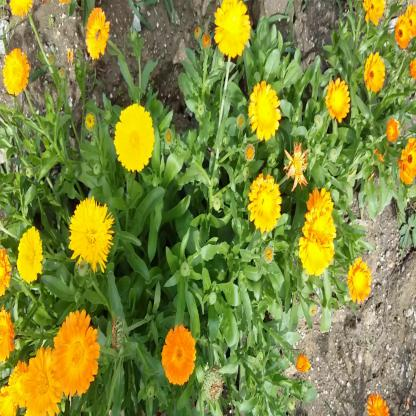marigold: (52, 311, 96, 395), (70, 195, 112, 272), (302, 192, 336, 279), (23, 351, 68, 416), (114, 103, 152, 170), (212, 2, 253, 58), (162, 325, 195, 384), (250, 174, 282, 229), (301, 224, 336, 274), (249, 82, 280, 138), (18, 228, 42, 283), (84, 8, 108, 56), (3, 51, 28, 95), (347, 260, 371, 303), (327, 78, 350, 118), (364, 54, 384, 92), (401, 136, 416, 178), (362, 0, 384, 22), (367, 392, 387, 413), (396, 17, 410, 47), (406, 4, 416, 36)
